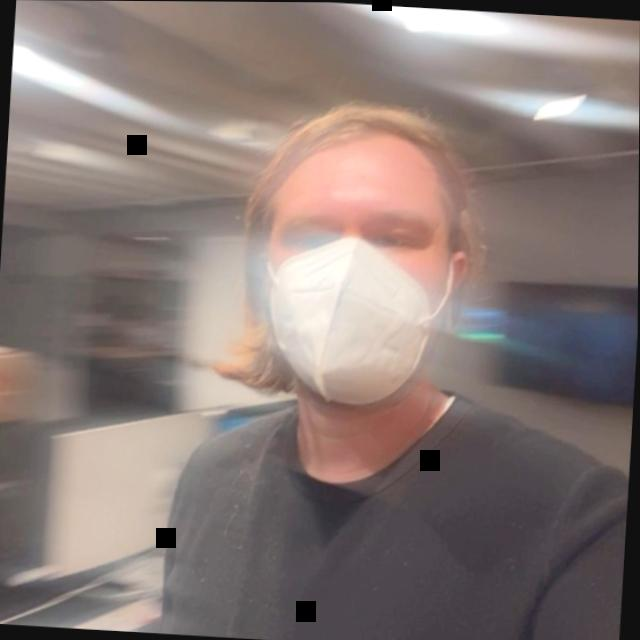Mask: (207, 69, 506, 441)
